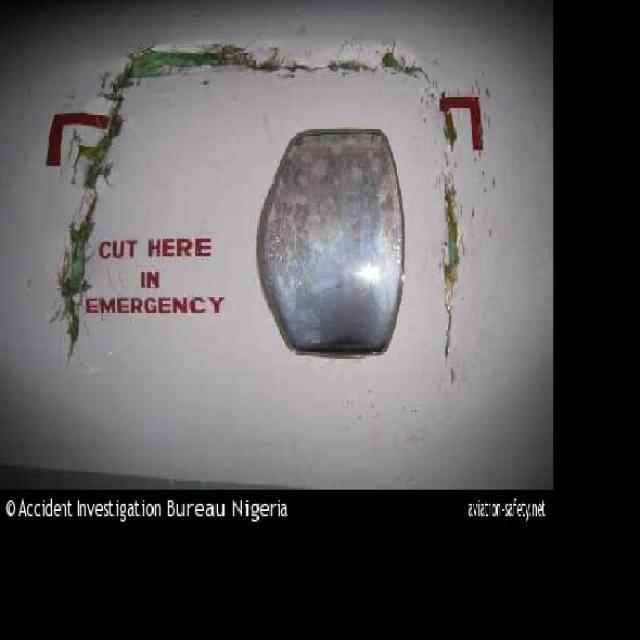crack: (51, 90, 126, 363), (106, 48, 435, 87), (444, 181, 459, 363)
